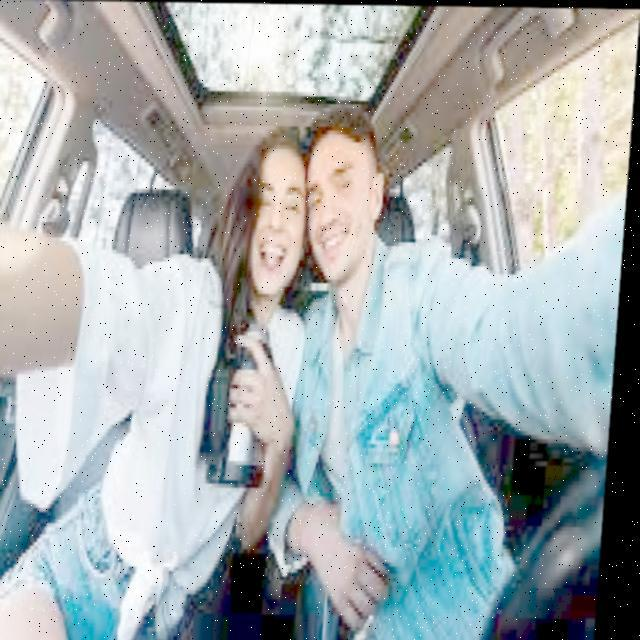noSeatbelt: (98, 226, 284, 634), (280, 243, 470, 640)
